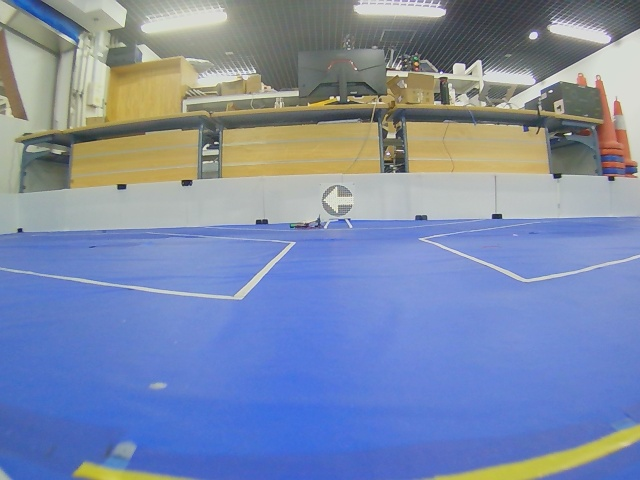left_yellow: (322, 185, 354, 217)
